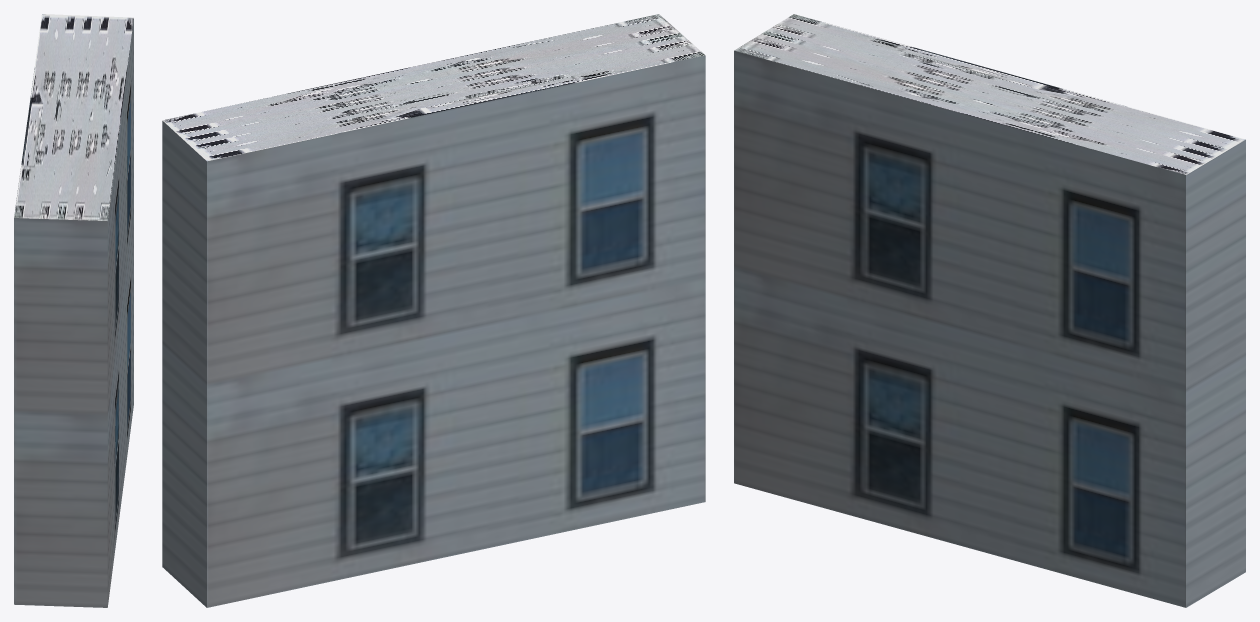
The model's file is ResTex__3681.fbx.
The picture shows the model from 3 angles, left to right: view 1: azimuth 30°, elevation 25°; view 2: azimuth 150°, elevation 25°; view 3: azimuth 270°, elevation 25°; orthographic projection. The views are drawn at different scales.
Parts seen in each view (by area): view 1: CityEngineMaterial_18_m, CityEngineMaterial_4_m; view 2: CityEngineMaterial_18_m, CityEngineMaterial_4_m; view 3: CityEngineMaterial_18_m, CityEngineMaterial_4_m.
Boxes of the visible parts, bbox=[...] form: CityEngineMaterial_18_m: bbox=[14, 19, 133, 607]; CityEngineMaterial_4_m: bbox=[14, 14, 133, 220]; CityEngineMaterial_18_m: bbox=[162, 55, 705, 607]; CityEngineMaterial_4_m: bbox=[162, 14, 705, 161]; CityEngineMaterial_18_m: bbox=[734, 50, 1245, 607]; CityEngineMaterial_4_m: bbox=[734, 14, 1245, 174].
Bounding box in the file's own units: 4.79 × 6 × 6.43.
Materials: 2 (2 with a texture image).
